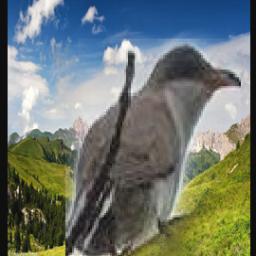Cuckoo: (66, 40, 242, 256)
